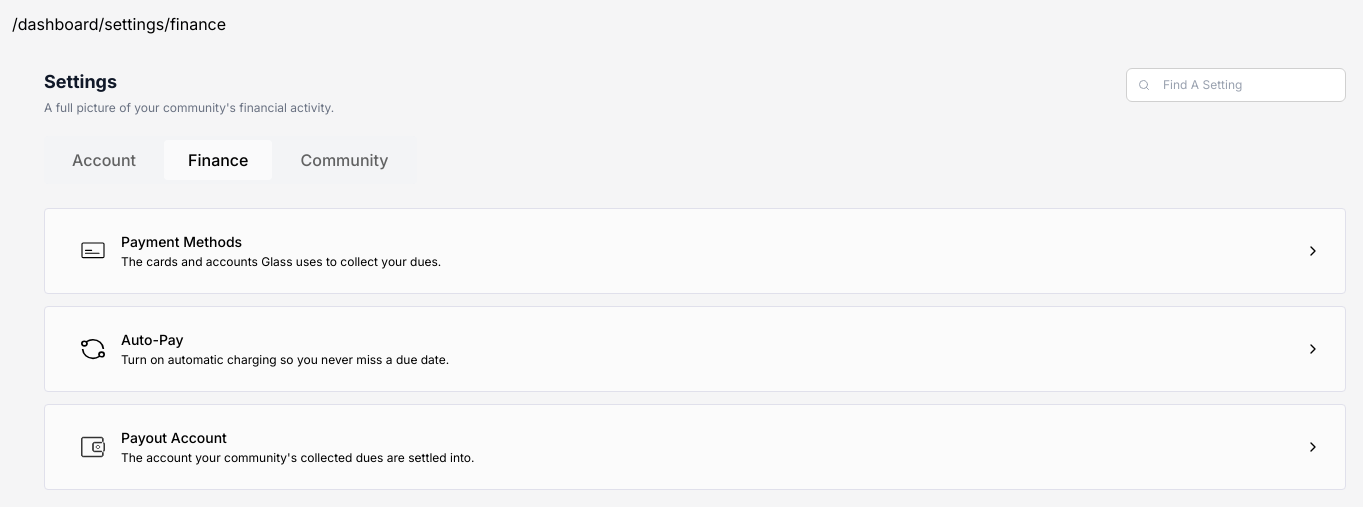
Test case: Settings community context -- community-scoped destinations › includes ?community= on Payout Account, the community-scoped Finance row
Click the button "Payout Account" at [174, 438], box x1=44 y1=404 x2=1346 y2=490
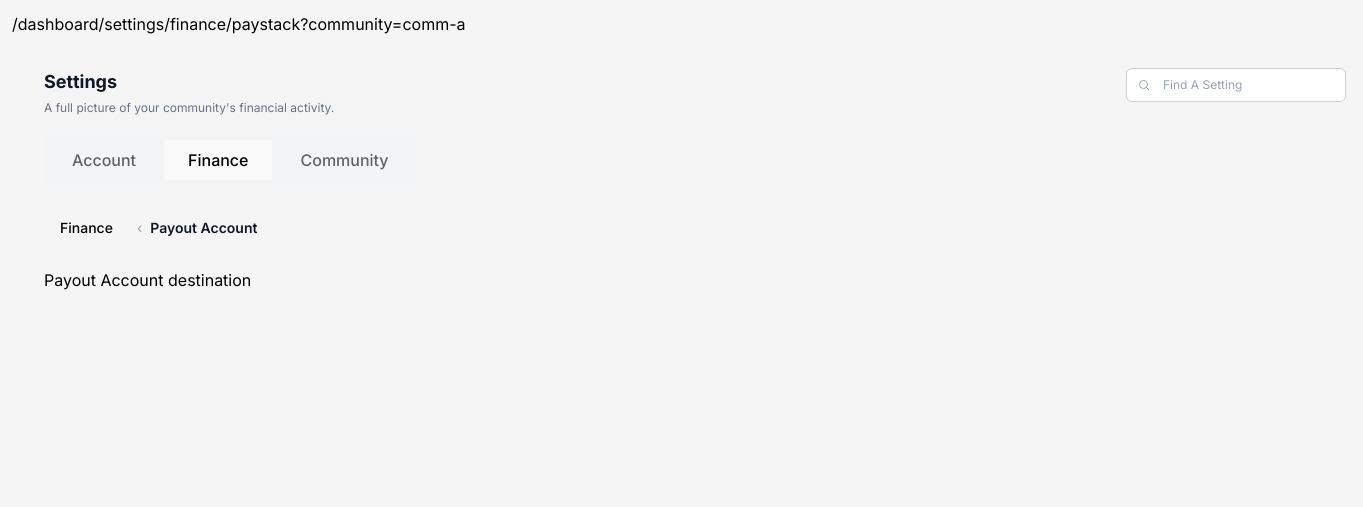
Expected: the text "Payout Account destination" is shown, x1=44 y1=270 x2=251 y2=290
Expected: the text with test id "location" reads "/dashboard/settings/finance/paystack?community=comm-a", x1=12 y1=14 x2=466 y2=34
